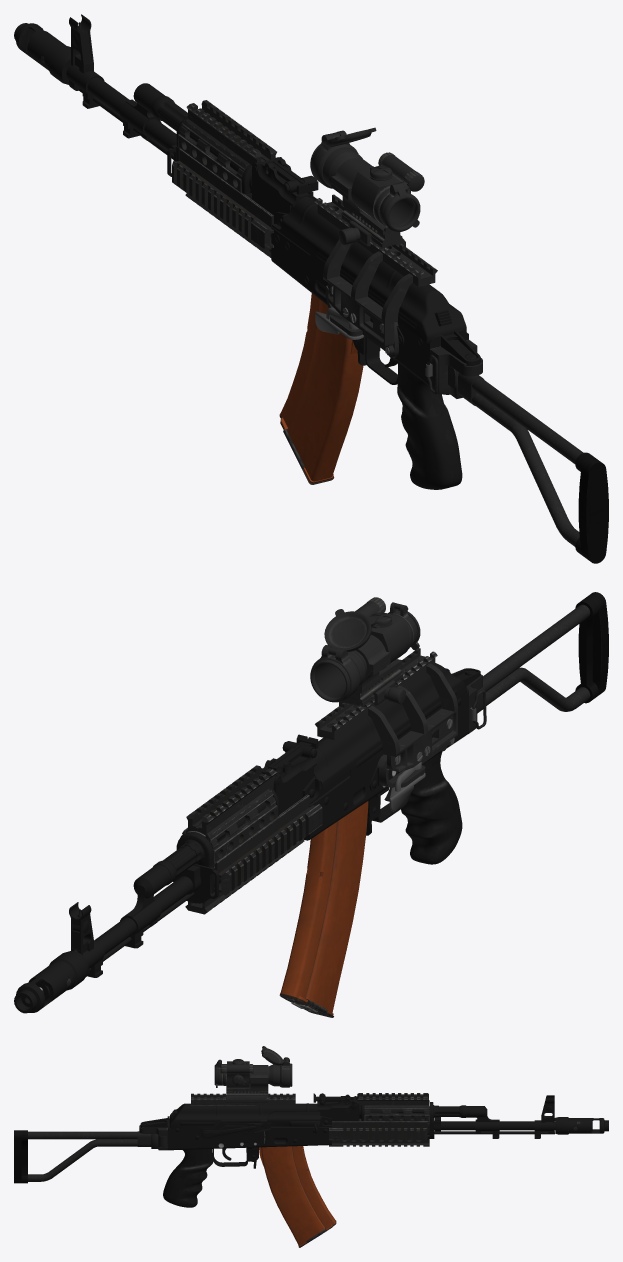
Rendered from ak74_tactical.glb.
The picture shows the model from 3 angles, top to bottom: view 1: azimuth 30°, elevation 25°; view 2: azimuth 150°, elevation 25°; view 3: azimuth 270°, elevation 25°; orthographic projection. The views are drawn at different scales.
Visible parts, largest first — view 1: AK-74_body.007, stock_2.001, AK-74_bak_mag30.002, rails2.001, Cylinder.002, SideMount_picantiny.002, tactical_grip; view 2: AK-74_body.007, AK-74_bak_mag30.002, rails2.001, Cylinder.002, SideMount_picantiny.002, stock_2.001, tactical_grip; view 3: AK-74_body.007, rails2.001, AK-74_bak_mag30.002, stock_2.001, Cylinder.002, tactical_grip, SideMount_picantiny.002.
Part boxes in pixels (box(x1,y1,x2,y2)): AK-74_body.007: box(14, 14, 480, 385); stock_2.001: box(425, 339, 608, 563); AK-74_bak_mag30.002: box(279, 293, 363, 484); rails2.001: box(172, 100, 276, 257); Cylinder.002: box(310, 127, 424, 247); SideMount_picantiny.002: box(315, 194, 437, 358); tactical_grip: box(397, 362, 462, 489); AK-74_body.007: box(14, 663, 480, 1013); AK-74_bak_mag30.002: box(279, 801, 368, 1017); rails2.001: box(173, 765, 322, 914); Cylinder.002: box(310, 597, 420, 706); SideMount_picantiny.002: box(315, 648, 457, 811); stock_2.001: box(466, 592, 608, 733); tactical_grip: box(401, 751, 462, 864); AK-74_body.007: box(140, 1093, 608, 1168); rails2.001: box(329, 1093, 429, 1146); AK-74_bak_mag30.002: box(259, 1146, 336, 1247); stock_2.001: box(14, 1125, 167, 1183); Cylinder.002: box(214, 1046, 292, 1102); tactical_grip: box(163, 1149, 213, 1207); SideMount_picantiny.002: box(191, 1093, 295, 1105).
Size of the model in its own units: 0.0811 by 0.3415 by 0.9421.
Materials: 8 (6 with a texture image).
